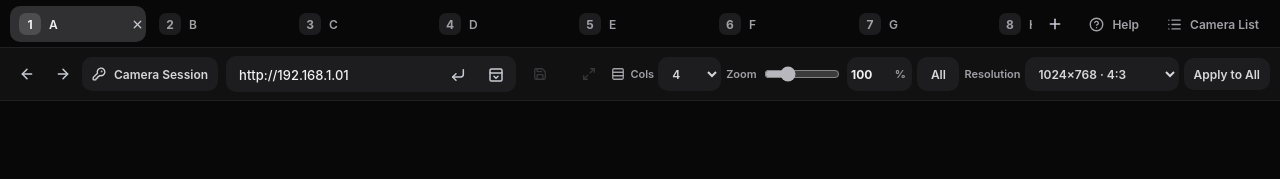
Test case: BrowserChrome › disables selected-page focus while expansion mode is off
The image size is (1280, 179).
Focus the button named "Focus selected page" at point(589, 74), box [572,57,606,91]
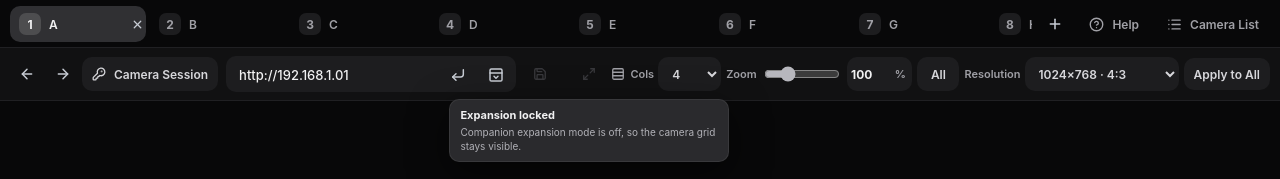
Check: the tooltip shows "Expansion locked", box [460,108,555,122]
Check: the tooltip shows "Companion expansion mode is off, so the camera grid stays visible.", box [460,126,715,152]
